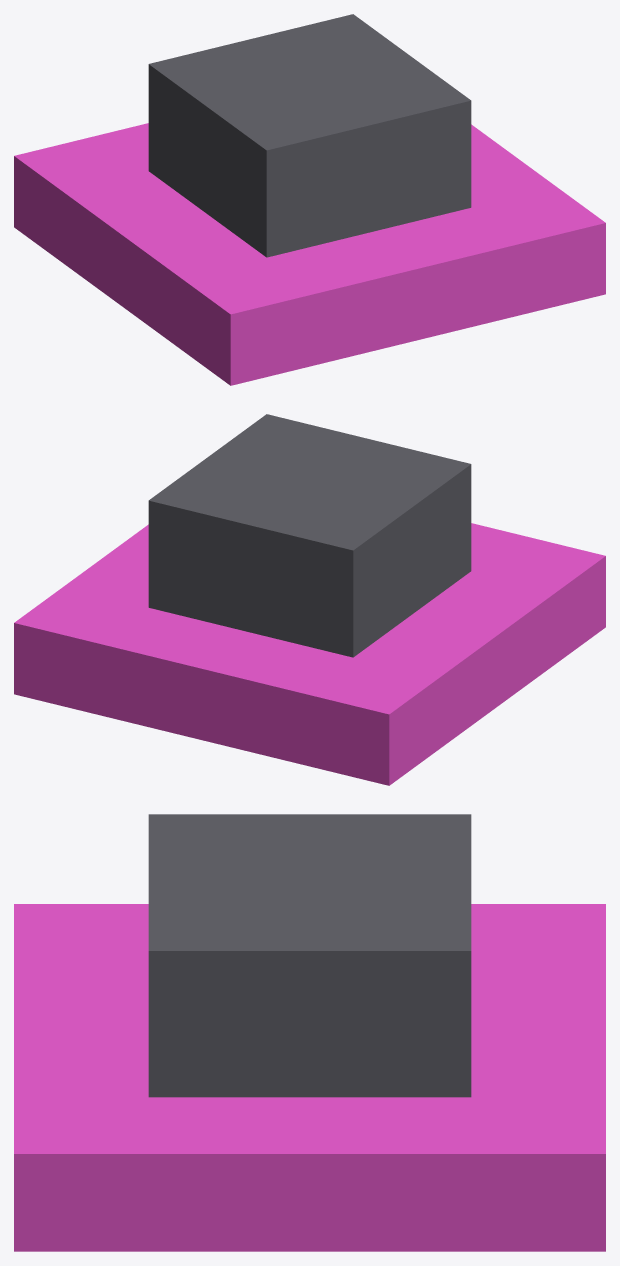
Rendered from placeholder_block.glb.
The picture shows the model from 3 angles, top to bottom: view 1: azimuth 30°, elevation 25°; view 2: azimuth 150°, elevation 25°; view 3: azimuth 270°, elevation 25°; orthographic projection. The views are drawn at different scales.
Bounding box in the file's own units: 0.22 × 0.1 × 0.22.
